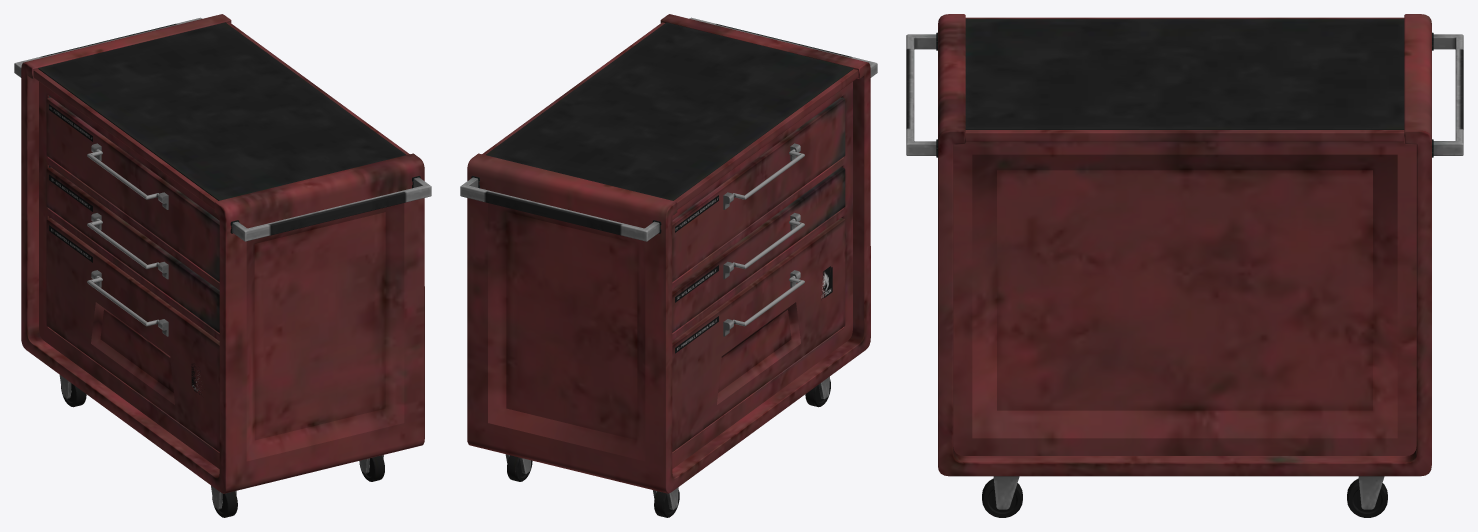
Rendered from toolbox-industrial.glb.
3 views of the same model, side by side, from view 1: azimuth 30°, elevation 25°; view 2: azimuth 150°, elevation 25°; view 3: azimuth 270°, elevation 25° (orthographic). The views are drawn at different scales.
Parts seen in each view (by area): view 1: defaultMaterial; view 2: defaultMaterial; view 3: defaultMaterial.
Part boxes in pixels (x1,y1,x2,y2): defaultMaterial: [14, 14, 431, 517]; defaultMaterial: [460, 14, 877, 517]; defaultMaterial: [906, 14, 1463, 517].
Size of the model in its own units: 0.6 by 0.9221 by 1.16.
1 material, 1 textured.
